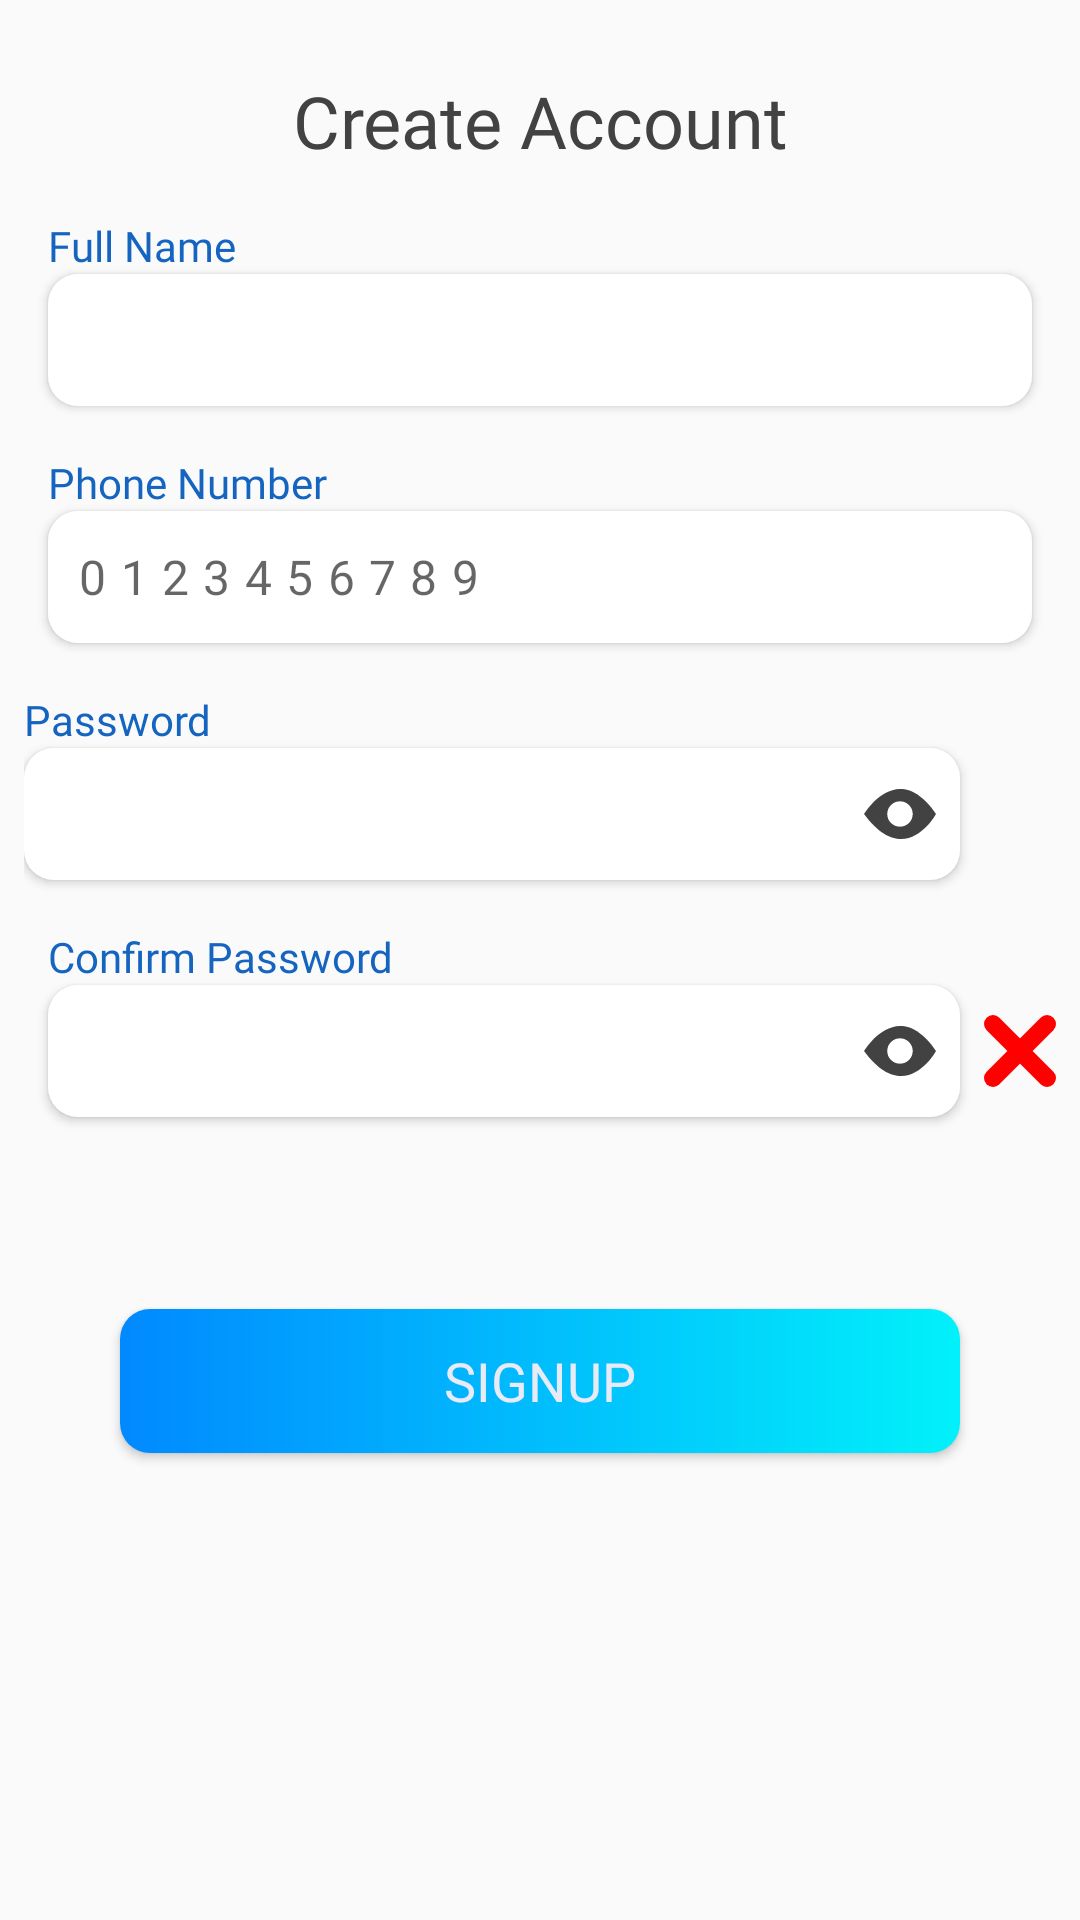

Where to tap for icons on this 1080*1920 app screen, as (x,y):
cross: (1020,1051)
